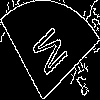M: (25, 24, 69, 84)
